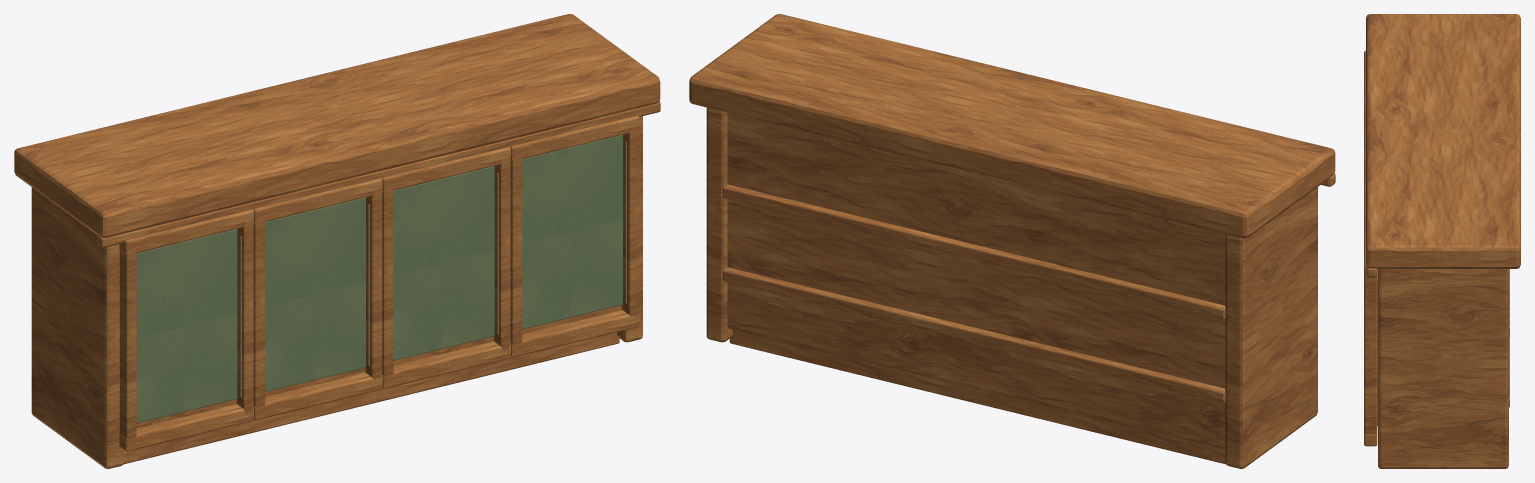
File: WC_CAFE_Counter_Straight_A.glb
3 renders of one model, left to right at view 1: azimuth 30°, elevation 25°; view 2: azimuth 150°, elevation 25°; view 3: azimuth 270°, elevation 25°, orthographic. The views are drawn at different scales.
Parts seen in each view (by area): view 1: WC_CAFE_Counter_Straight_A_RenderMesh; view 2: WC_CAFE_Counter_Straight_A_RenderMesh; view 3: WC_CAFE_Counter_Straight_A_RenderMesh.
Part boxes in pixels (left/top/right/bottom): WC_CAFE_Counter_Straight_A_RenderMesh: left=14, top=14, right=660, bottom=468; WC_CAFE_Counter_Straight_A_RenderMesh: left=689, top=14, right=1335, bottom=468; WC_CAFE_Counter_Straight_A_RenderMesh: left=1364, top=14, right=1520, bottom=468.
Bounding box in the file's own units: 2.33 × 1.08 × 0.6575.
Materials: 5 (4 with a texture image).
